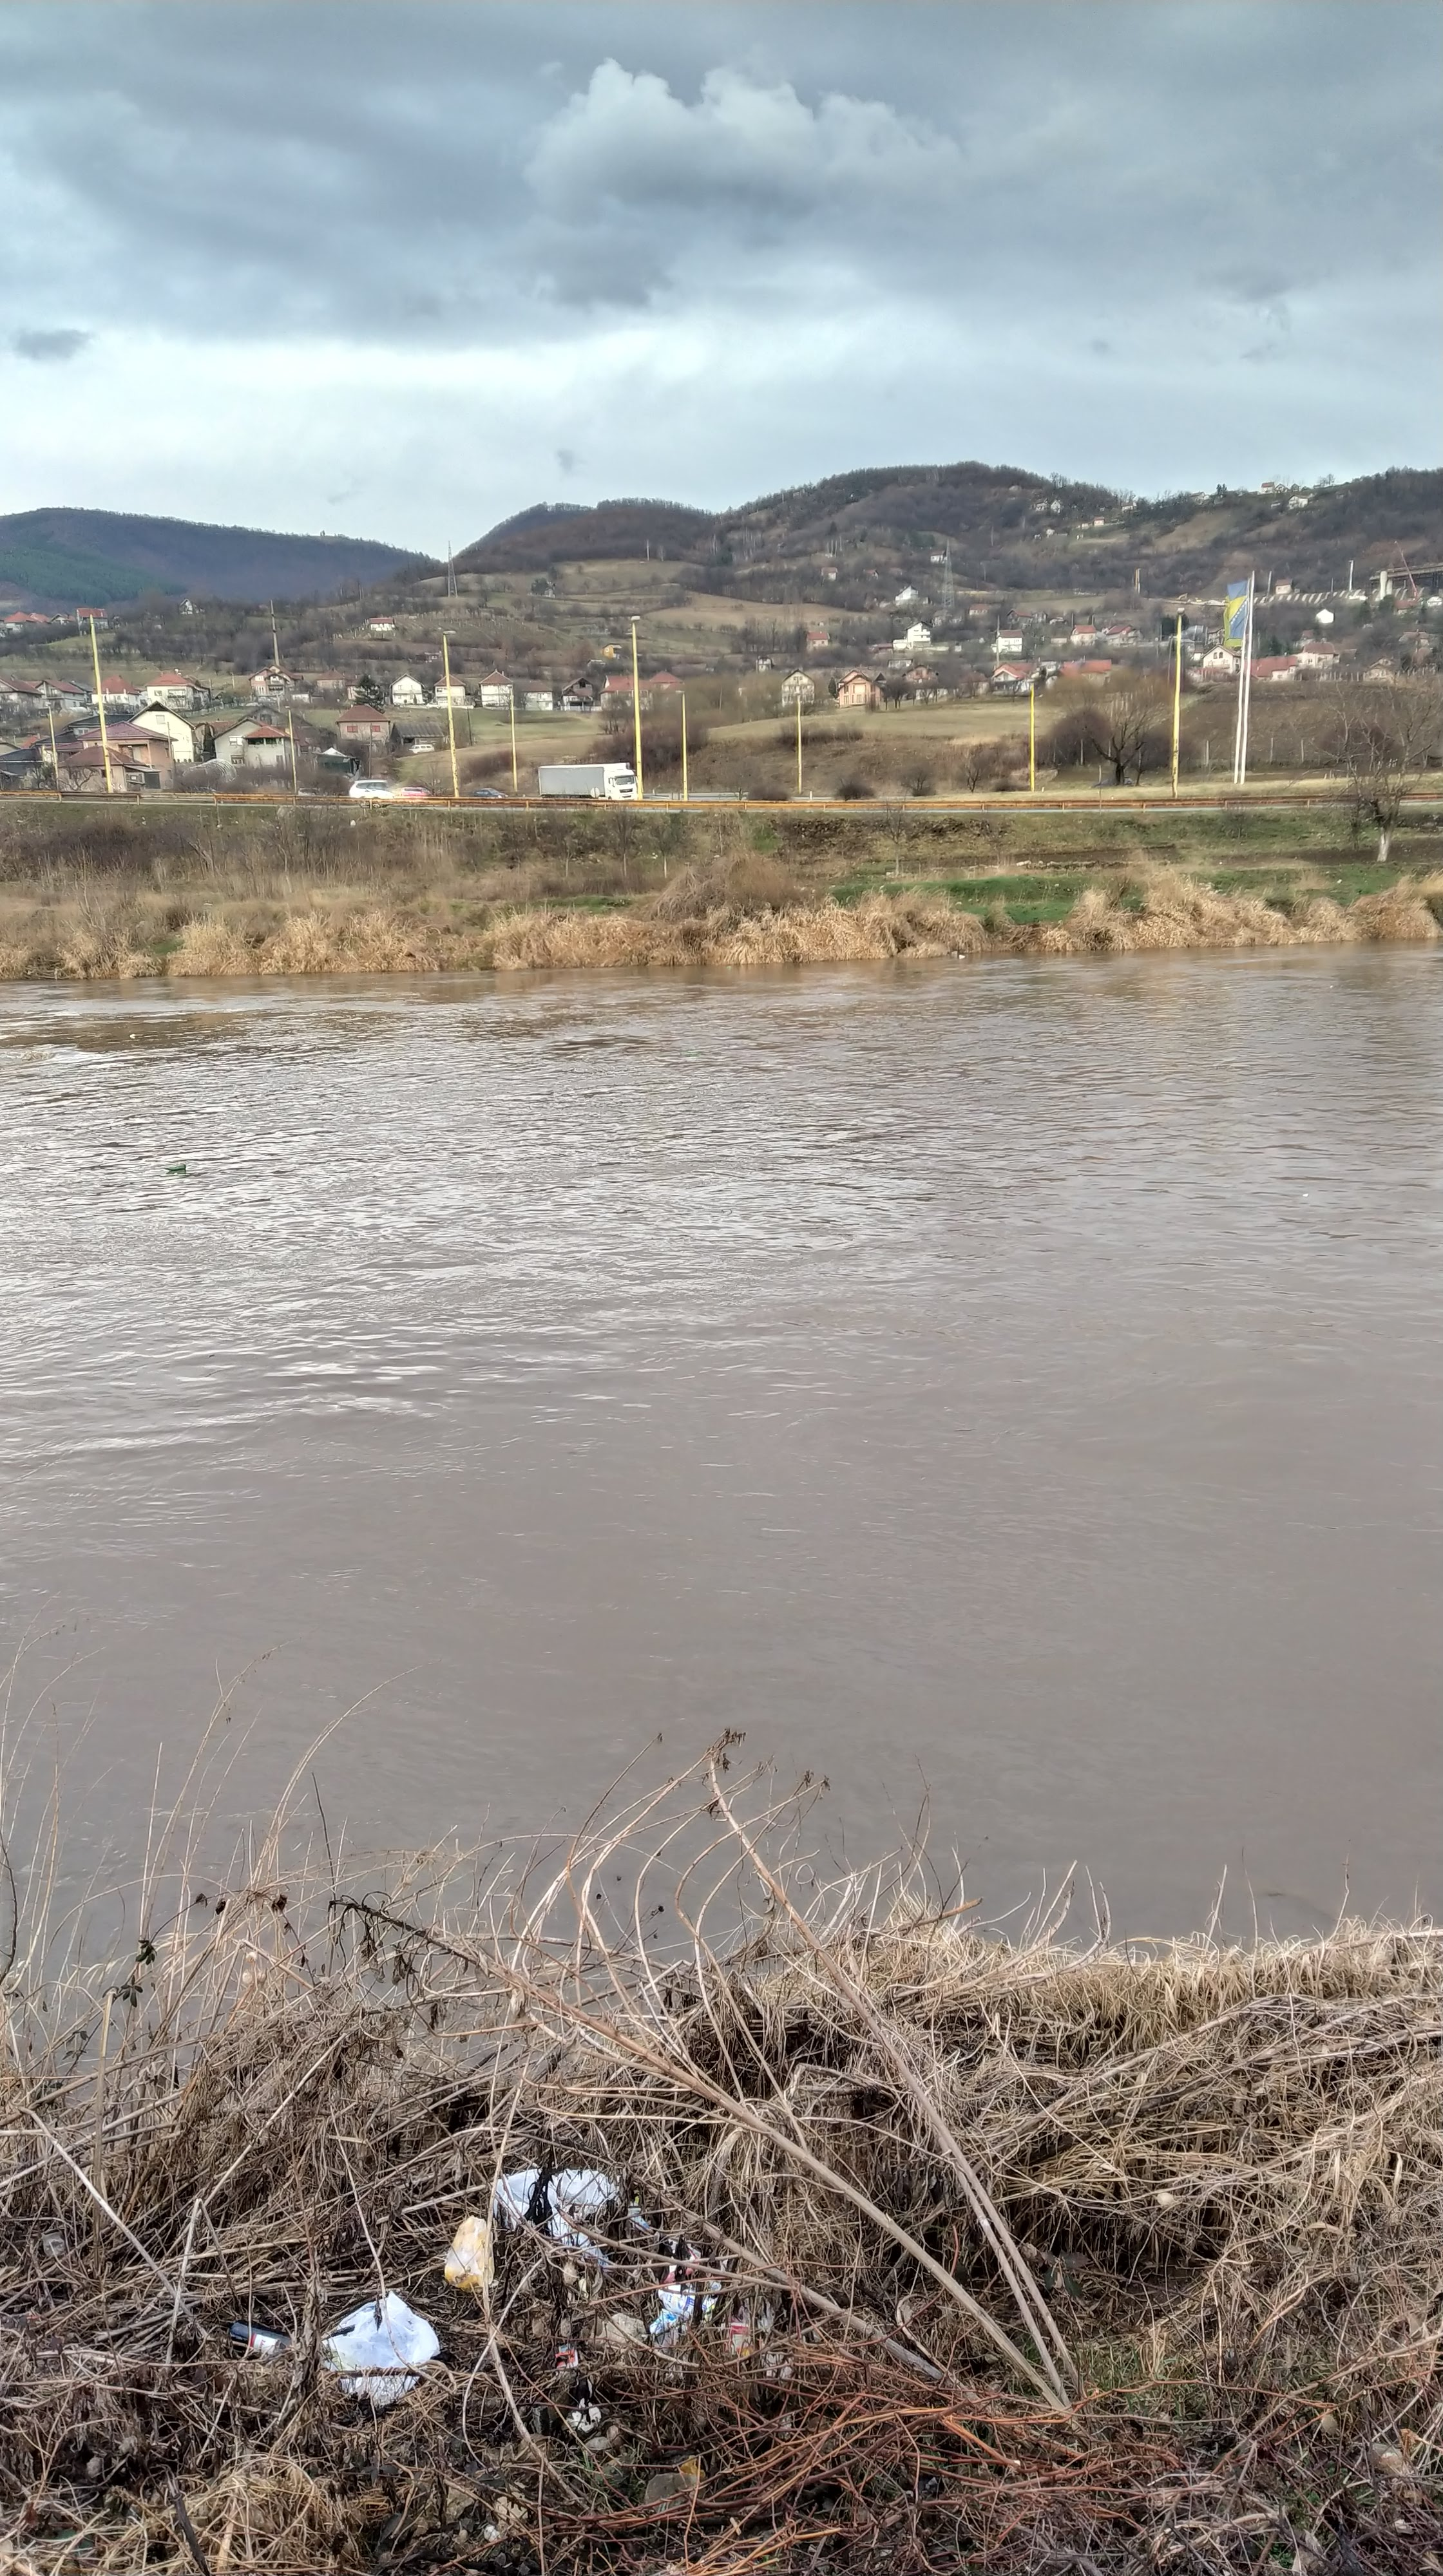Plastic Bottle: (165, 1162, 186, 1171), (960, 954, 963, 959)
